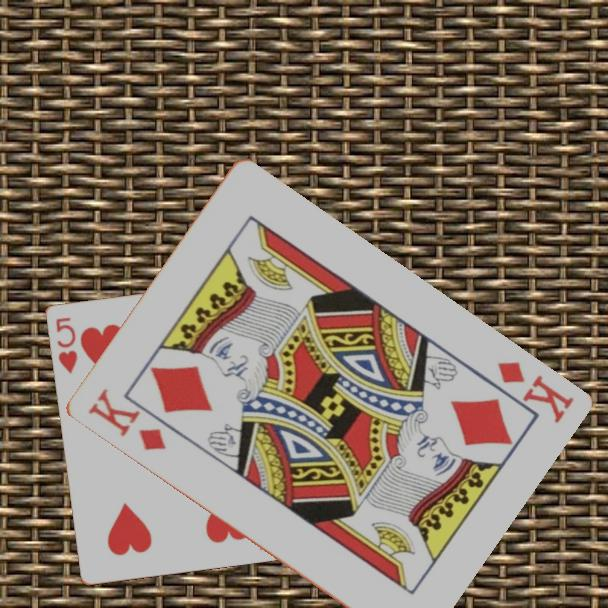d13: (84, 384, 168, 454), (493, 358, 577, 426)
h05: (52, 313, 80, 376)
